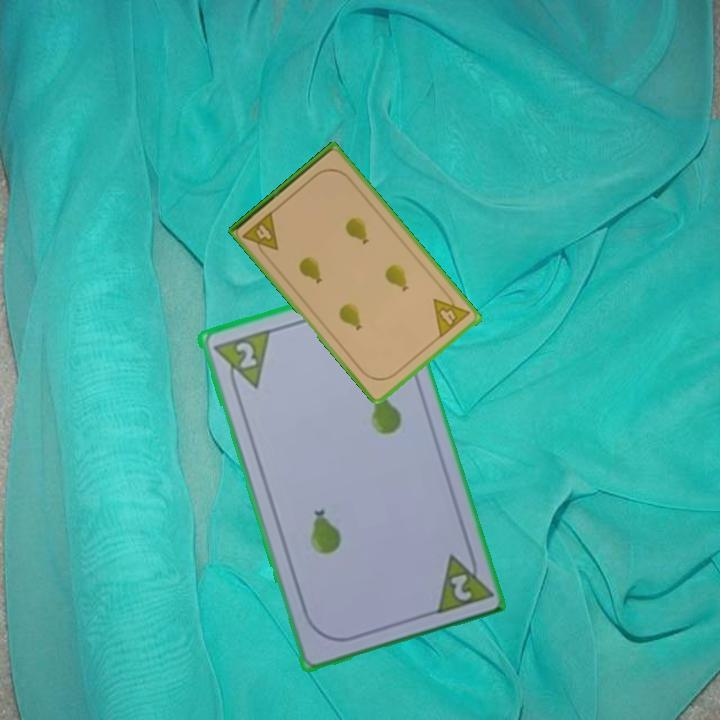2p: (430, 543, 493, 617), (208, 325, 272, 397)
4p: (430, 287, 473, 341), (239, 208, 282, 261)
